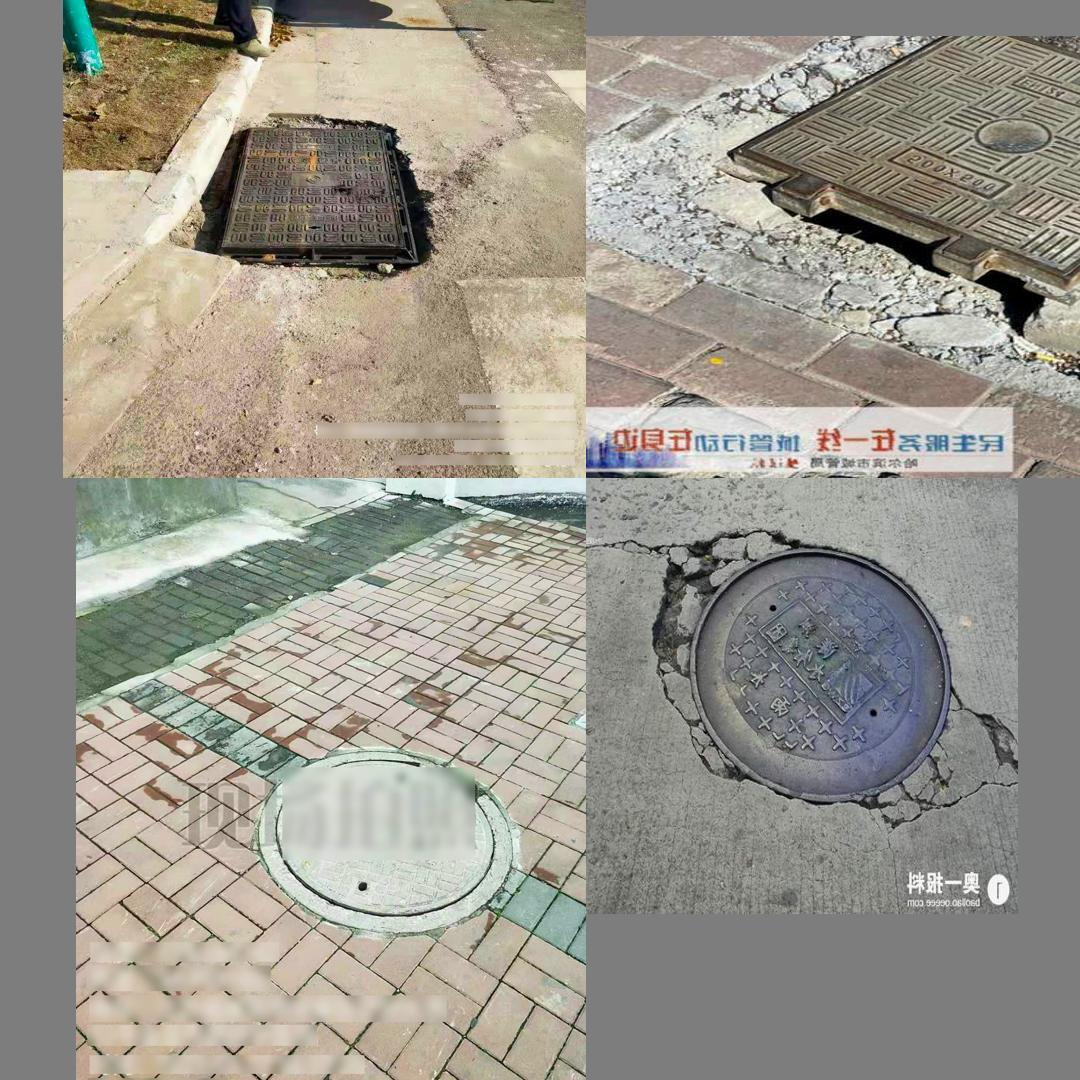circle: (594, 43, 1080, 388), (645, 517, 1009, 827), (253, 751, 516, 939), (190, 119, 433, 275)
